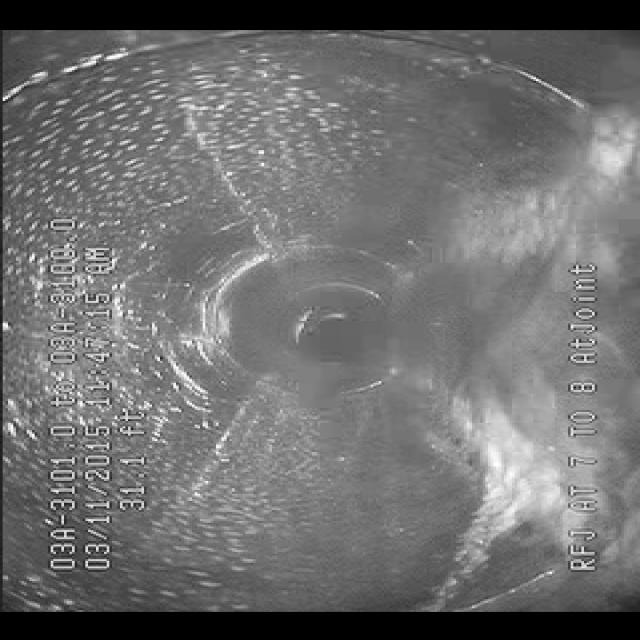Crack: (164, 81, 288, 252)
